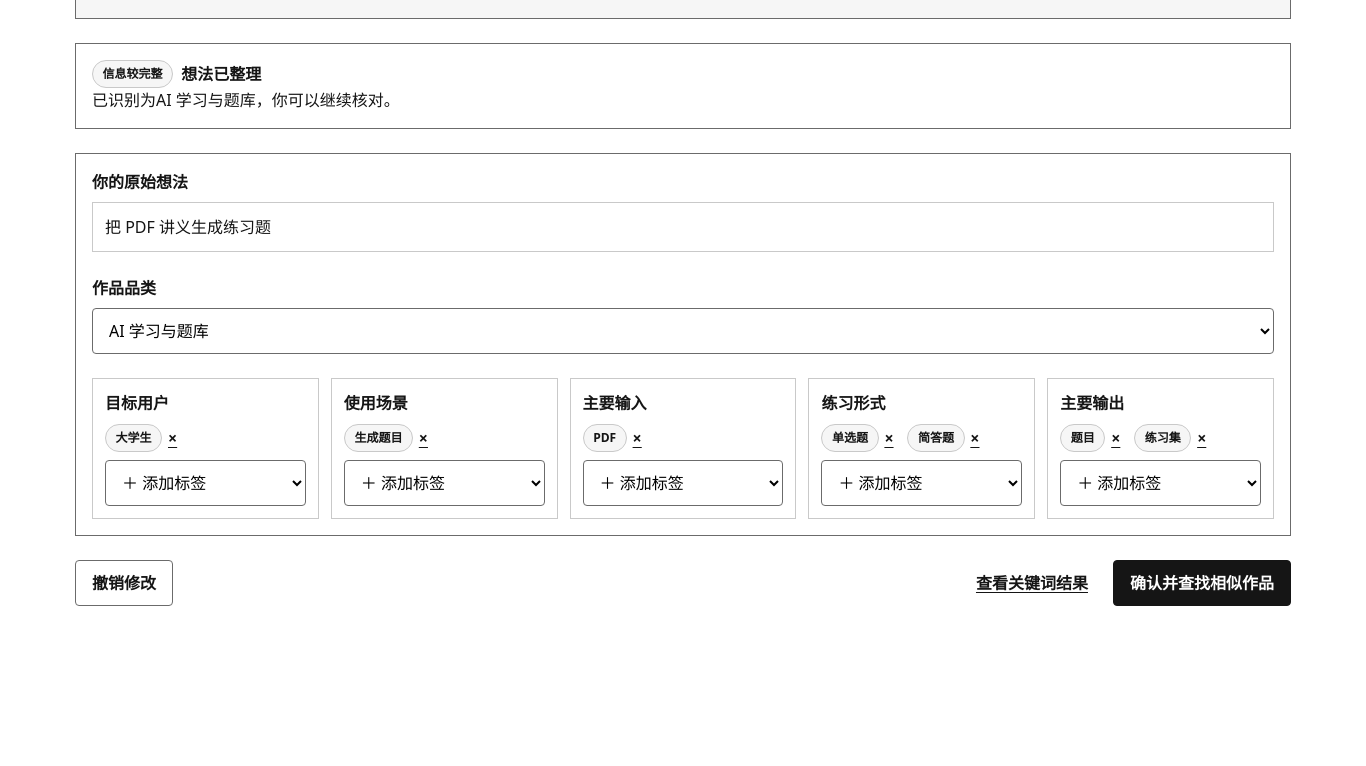
Scenario: DiscoverPage › allows deleting, adding and restoring parsed tags without changing raw text
The width and height of the screenshot is (1366, 766).
(page scrolled)
Expected: the text "想法已整理" is shown, 181,62 -> 261,86
Click the button named "删除主要输入：PDF" at (637, 438), box 627,423 -> 648,452
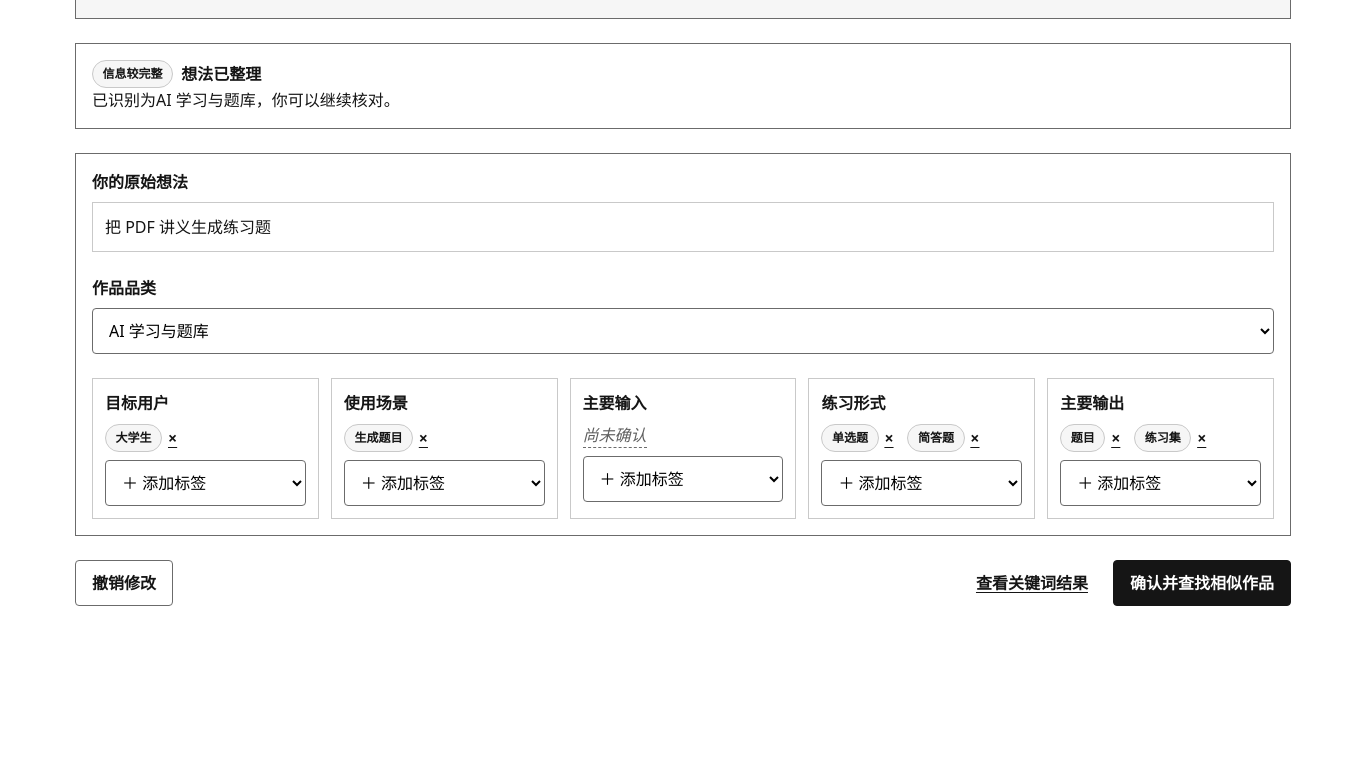
Result: the button "删除主要输入：PDF" is gone
Select "图片" in the dropdown named "添加主要输入" at (683, 479), box 583,456 -> 783,502
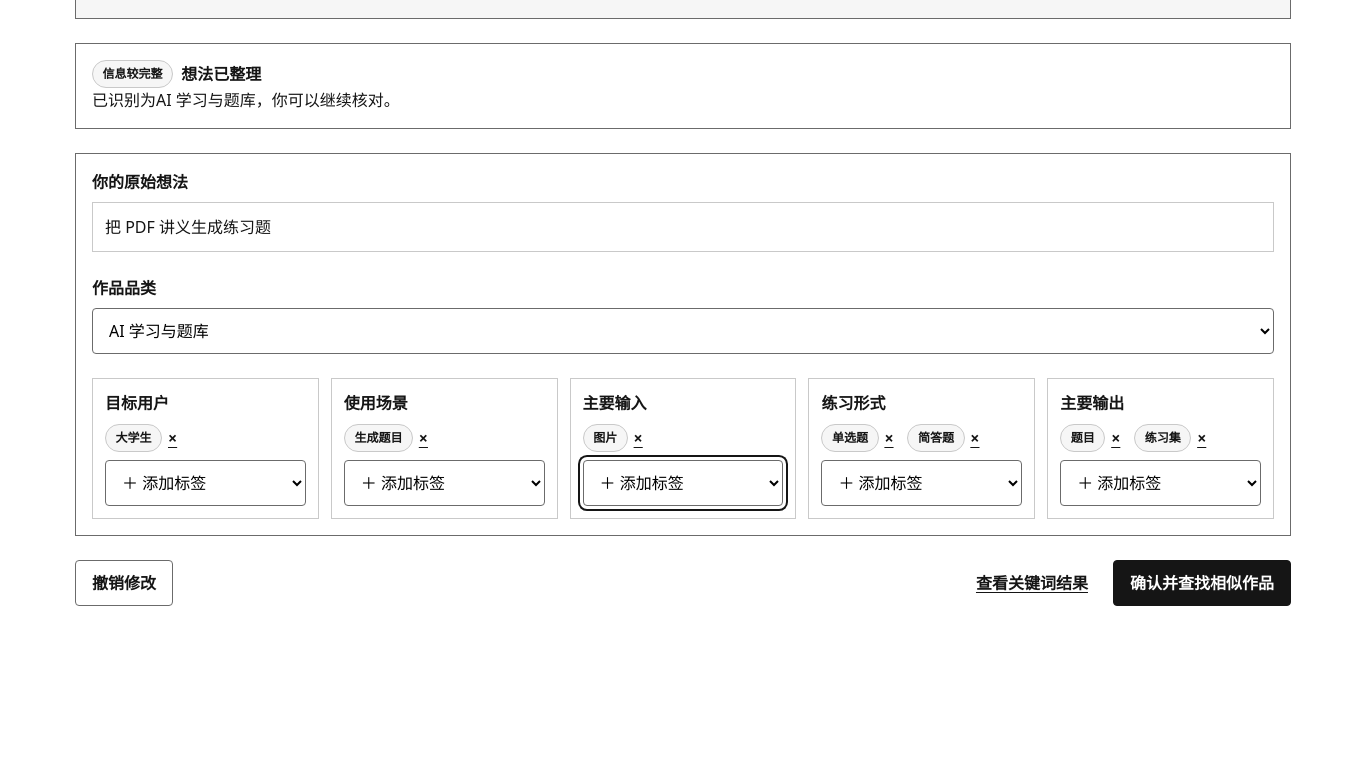
Result: the button named "删除主要输入：图片" is shown at 628,423 -> 649,452
Click the button "撤销修改" at (124, 583), box 75,560 -> 173,606
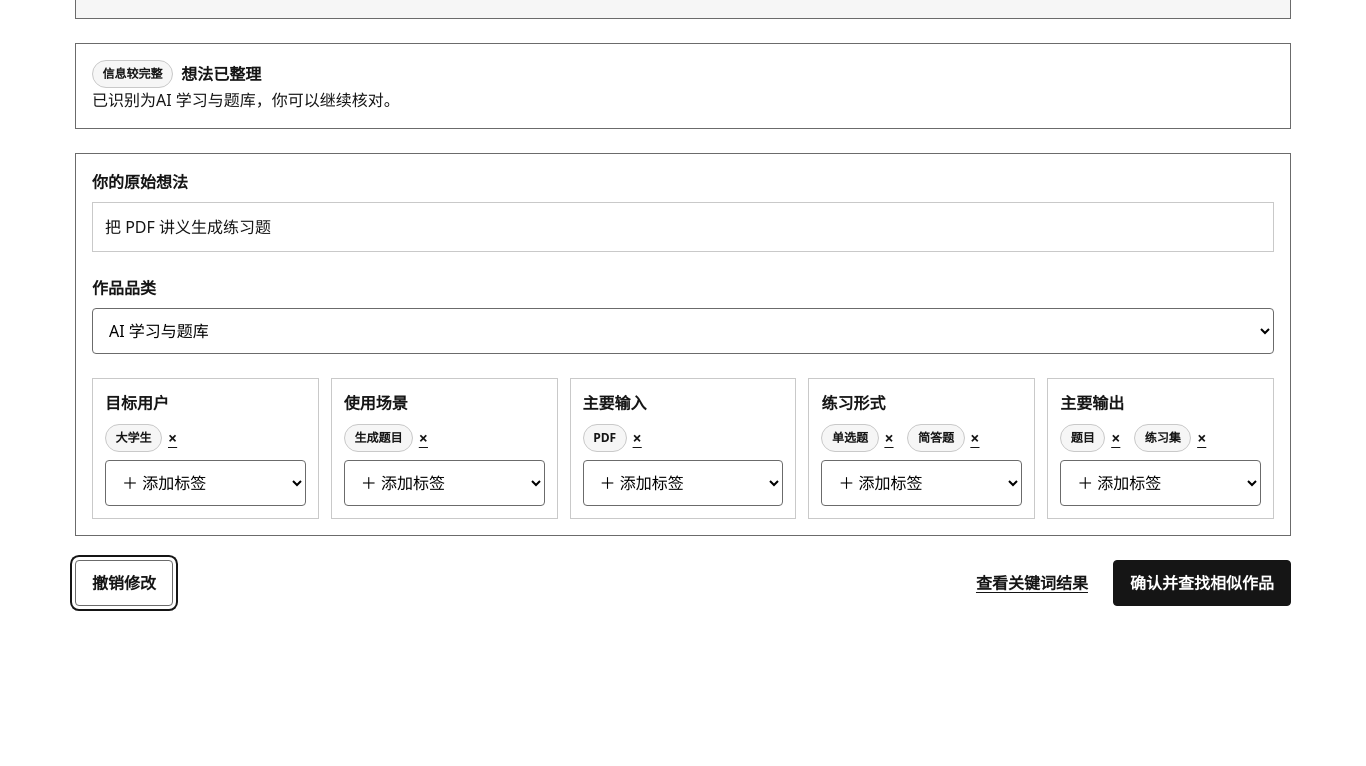
Result: the button named "删除主要输入：PDF" is shown at 627,423 -> 648,452
